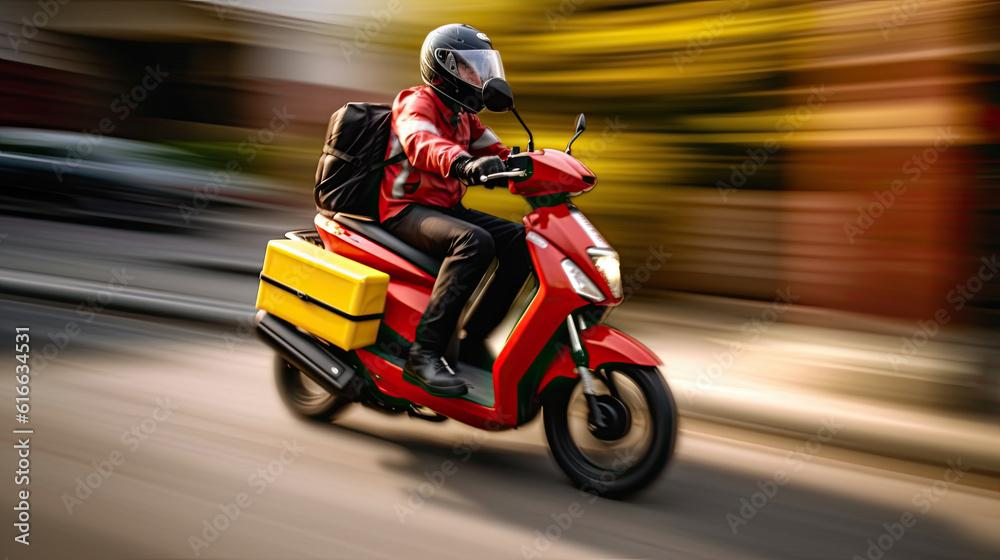helmet: (419, 22, 508, 115)
